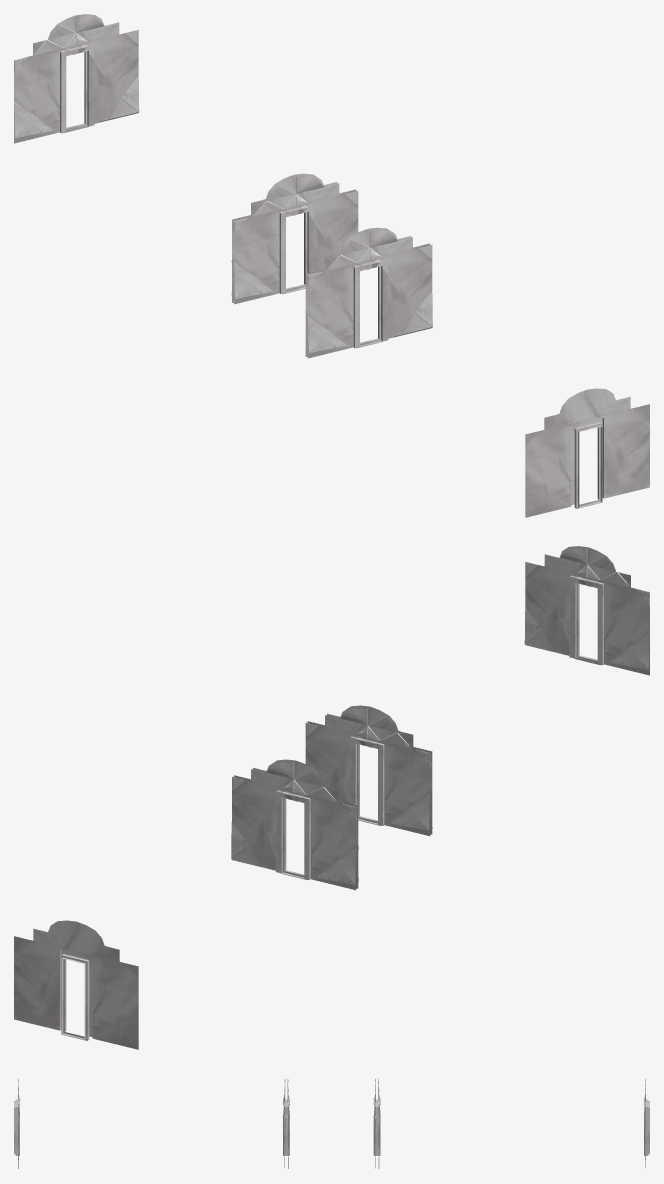
Rendered from MurosPuerta.FBX.
3 views of the same model, one above another, from view 1: azimuth 30°, elevation 25°; view 2: azimuth 150°, elevation 25°; view 3: azimuth 270°, elevation 25° (orthographic). The views are drawn at different scales.
Parts seen in each view (by area): view 1: ParedPuerta1; view 2: ParedPuerta1; view 3: ParedPuerta1.
Part boxes in pixels (x1=…): ParedPuerta1: x1=14, y1=14, x2=649, y2=517; ParedPuerta1: x1=14, y1=546, x2=649, y2=1049; ParedPuerta1: x1=14, y1=1078, x2=649, y2=1168.
Size of the model in its own units: 532 by 468 by 3824.
